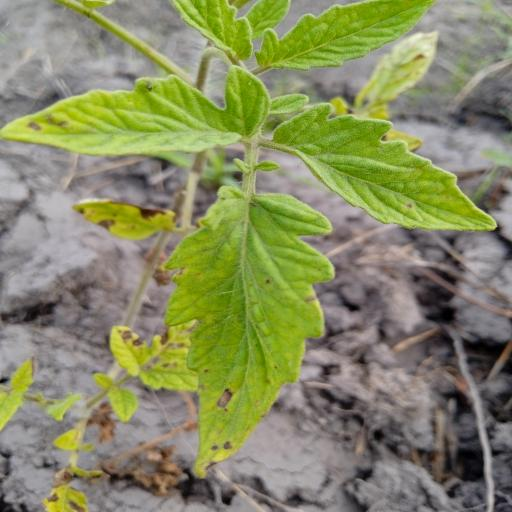Tomato_Brown_Spots: (161, 187, 333, 478), (261, 100, 499, 232), (0, 63, 274, 158)
